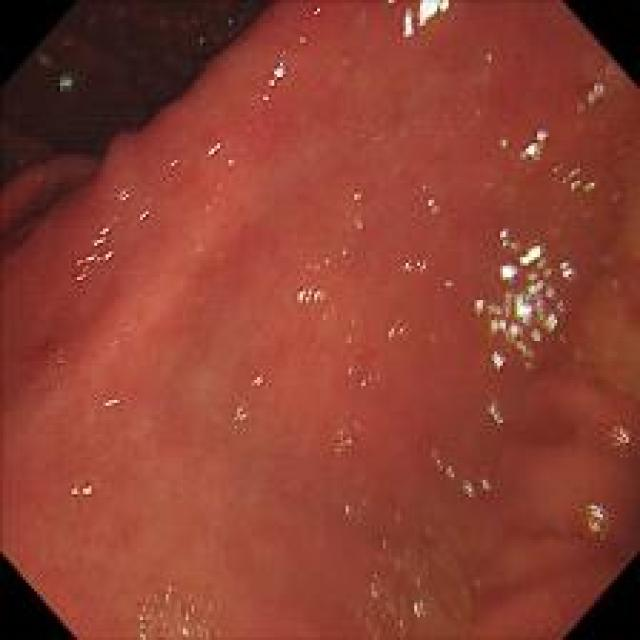bubbles: (368, 526, 471, 630), (136, 586, 221, 638)
color misalignment: (475, 228, 574, 374), (431, 451, 494, 498), (551, 166, 599, 192), (574, 81, 606, 119), (581, 500, 611, 539), (522, 126, 546, 164), (401, 5, 424, 34), (610, 424, 630, 456), (335, 422, 352, 452), (488, 401, 508, 426), (295, 286, 324, 302), (408, 602, 430, 621), (356, 370, 379, 388), (490, 349, 509, 369), (402, 258, 428, 272), (386, 324, 406, 339), (58, 76, 75, 92), (341, 502, 351, 515)
contrast: (6, 10, 246, 161)
specularity: (476, 228, 568, 371), (515, 124, 601, 191), (431, 444, 498, 506), (72, 219, 119, 290), (229, 372, 270, 431), (391, 4, 458, 36), (326, 415, 365, 465), (576, 492, 611, 542), (255, 58, 292, 104), (480, 391, 519, 434), (282, 279, 334, 311), (69, 472, 108, 512), (346, 366, 388, 402), (201, 140, 245, 170), (382, 316, 416, 345), (100, 390, 126, 420), (425, 198, 440, 214), (496, 136, 508, 148)
